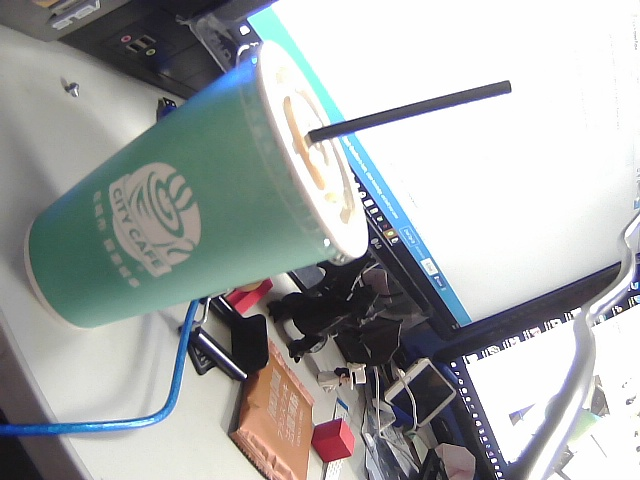beverage: (18, 27, 531, 377)
